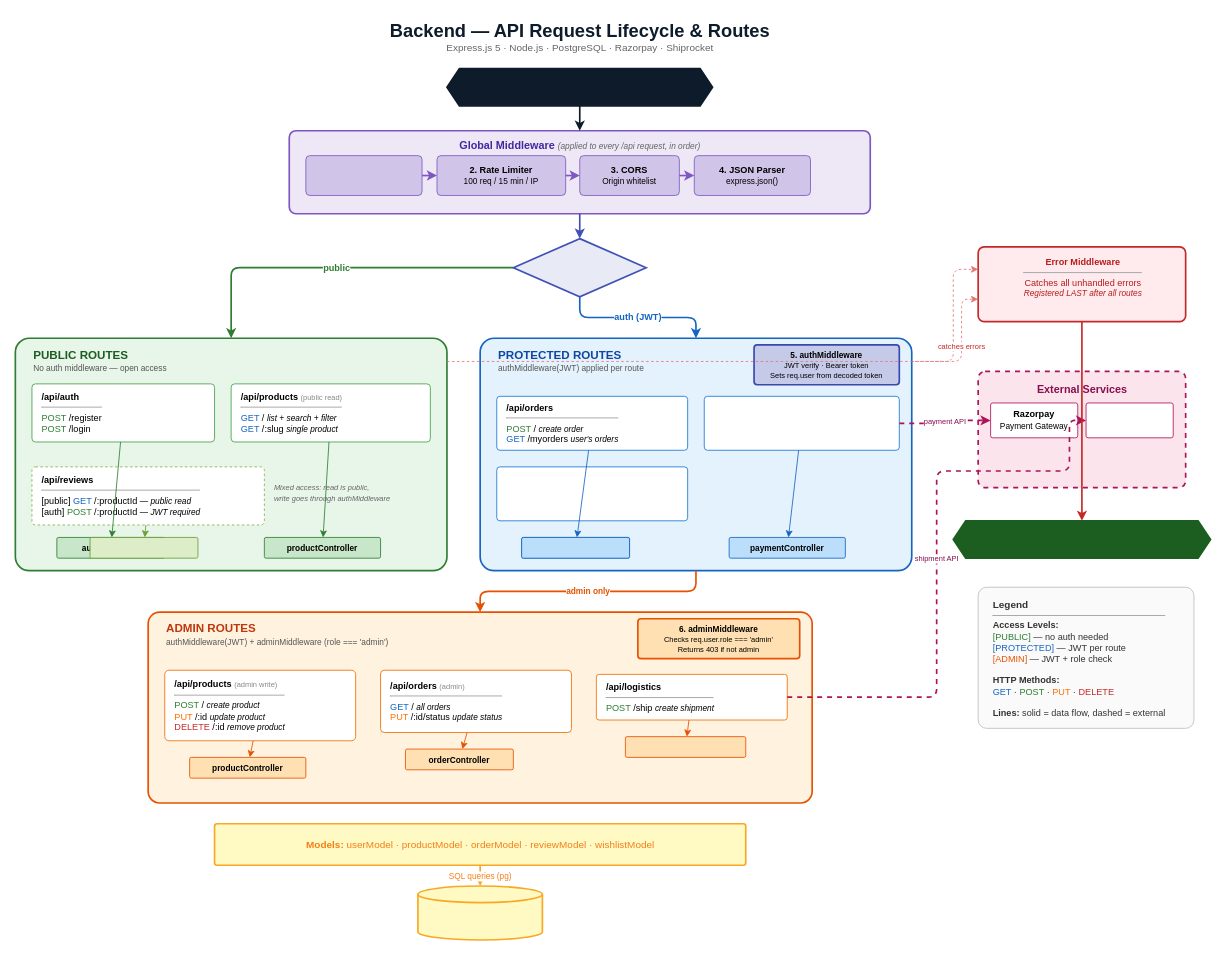
Image size: 1225x955. Some labels were removed from this diagram. The shapes that lost their labels are listed below. From the top down, each one's centre as x and y in pixels, then its label:
At point 579,86: "Incoming HTTP Request".
At point 363,175: "1. Helmet Security headers".
At point 579,267: "Route Dispatcher".
At point 801,422: "/api/payment POST /create-order Razorpay init POST /verify confirm signature".
At point 1129,420: "Shiprocket Logistics API".
At point 592,493: "/api/wishlist GET / user's wishlist POST /toggle add/remove item".
At point 143,547: "reviewController".
At point 575,547: "wishlistController".
At point 1081,539: "HTTP Response (JSON)".
At point 685,746: "logisticsController".
At point 480,912: "PostgreSQL".
